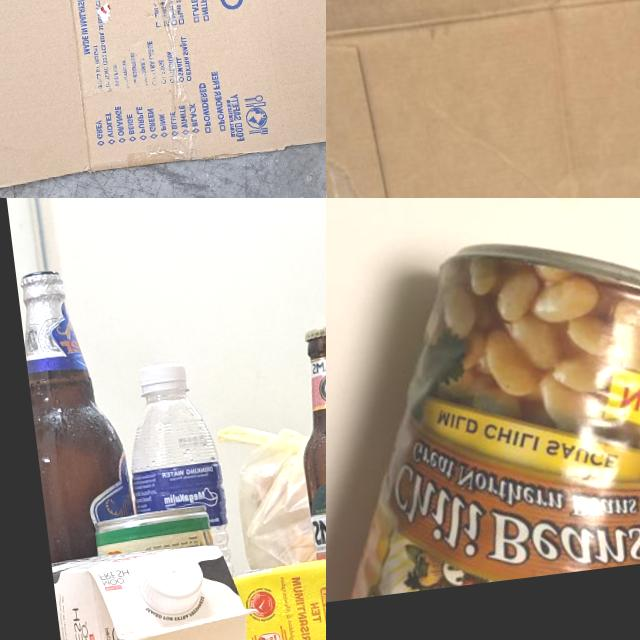caixinha: (51, 536, 266, 640), (231, 540, 326, 640)
garrafa de vidro: (15, 264, 137, 563), (287, 319, 326, 558)
garrafa plástica: (124, 386, 232, 575)
lata: (326, 210, 640, 598), (94, 504, 212, 558)
papelão: (0, 0, 326, 191), (326, 0, 640, 198)
tampa plástica: (136, 547, 206, 617), (138, 360, 188, 392)
